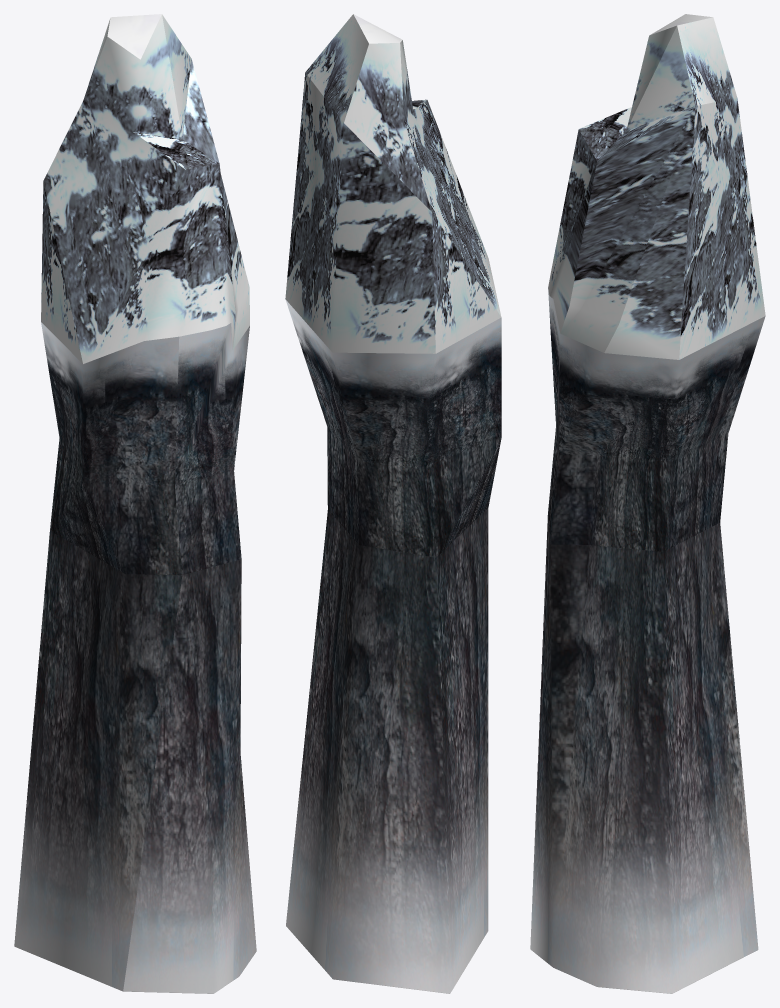
File: san008.obj
3 views of the same model, side by side, from view 1: azimuth 30°, elevation 25°; view 2: azimuth 150°, elevation 25°; view 3: azimuth 270°, elevation 25° (orthographic).
Parts seen in each view (by area): view 1: san008; view 2: san008; view 3: san008.
Part boxes in pixels (x1,y1,x2,y2): san008: (14, 14, 256, 993); san008: (285, 14, 501, 993); san008: (530, 14, 765, 993).
Size of the model in its own units: 191 by 879 by 201.
